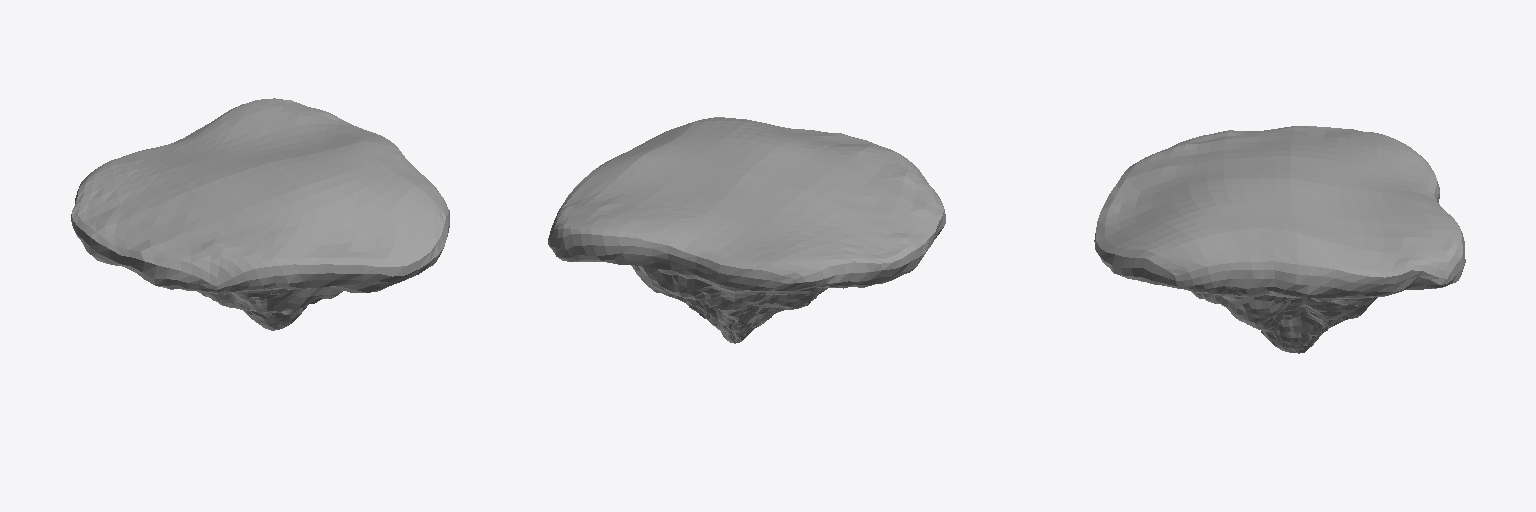
The model's file is sten_maya.obj.
3 views of the same model, side by side, from view 1: azimuth 30°, elevation 25°; view 2: azimuth 150°, elevation 25°; view 3: azimuth 270°, elevation 25° (orthographic).
Parts seen in each view (by area): view 1: Mesh_ZBrush_defualt_group; view 2: Mesh_ZBrush_defualt_group; view 3: Mesh_ZBrush_defualt_group.
Part boxes in pixels (left/top/right/bottom): Mesh_ZBrush_defualt_group: left=71, top=98, right=449, bottom=330; Mesh_ZBrush_defualt_group: left=548, top=117, right=945, bottom=343; Mesh_ZBrush_defualt_group: left=1094, top=126, right=1465, bottom=353.
Size of the model in its own units: 193 by 99.79 by 195.